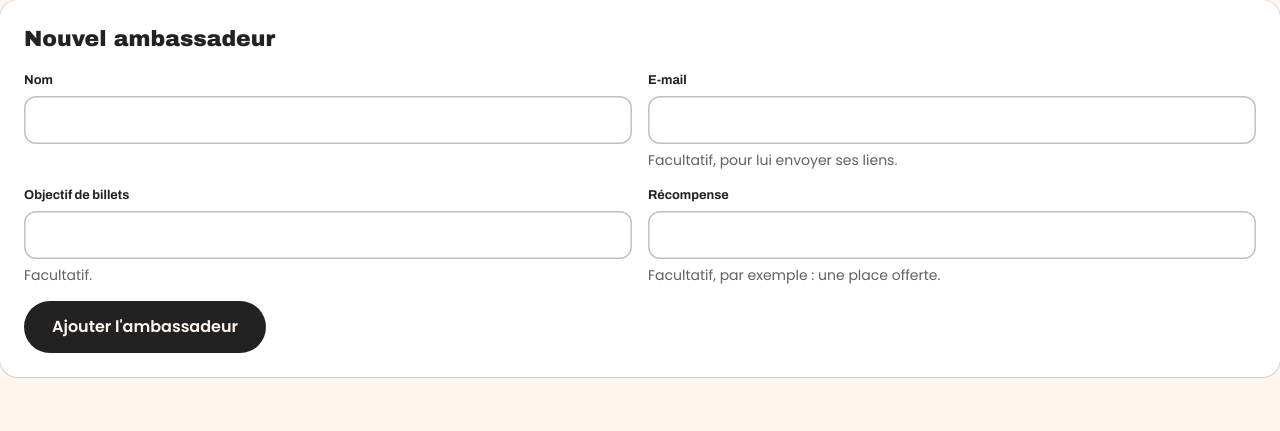
Test: ajout d'un ambassadeur › nom, e-mail et objectif transmis à l'action ; confirmation affichée
The image size is (1280, 431).
Type "Léa Ambassadrice" into the field with id "amb-name". click: (328, 120)
box: left=24, top=96, right=632, bottom=144
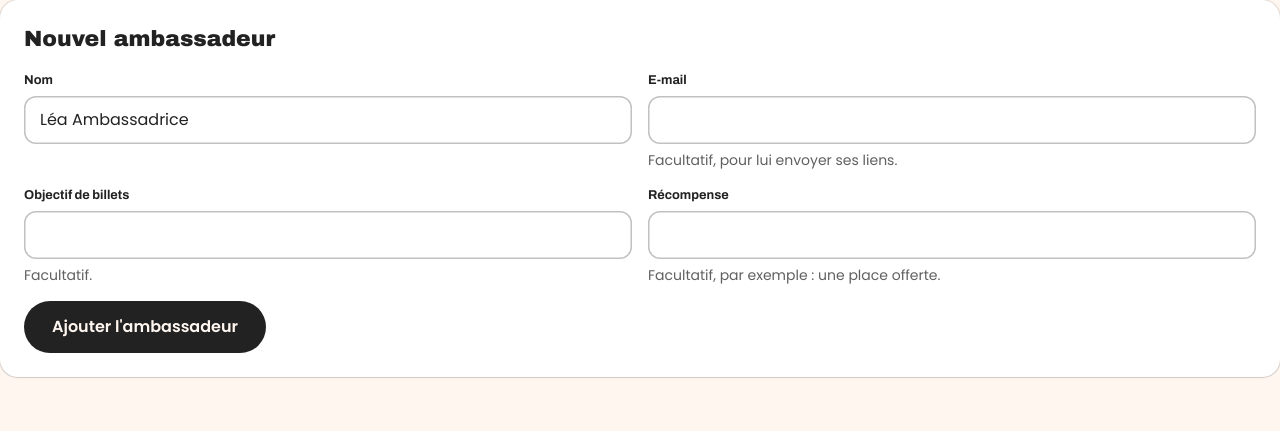
Type "lea@exemple.be" into the field with id "amb-email". click: (952, 120)
box: left=648, top=96, right=1256, bottom=144
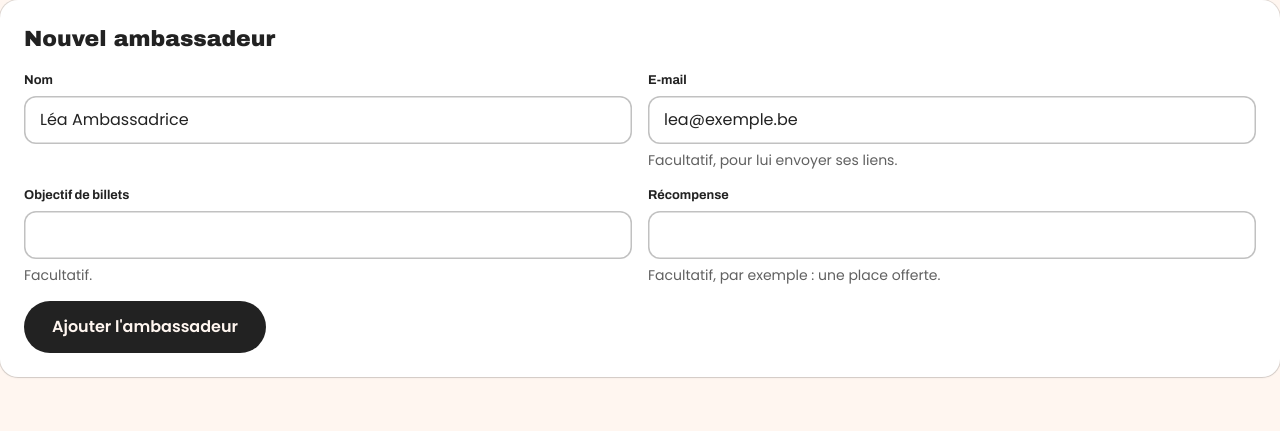
Type "20" into the field with id "amb-goal". click: (328, 235)
box: left=24, top=211, right=632, bottom=259
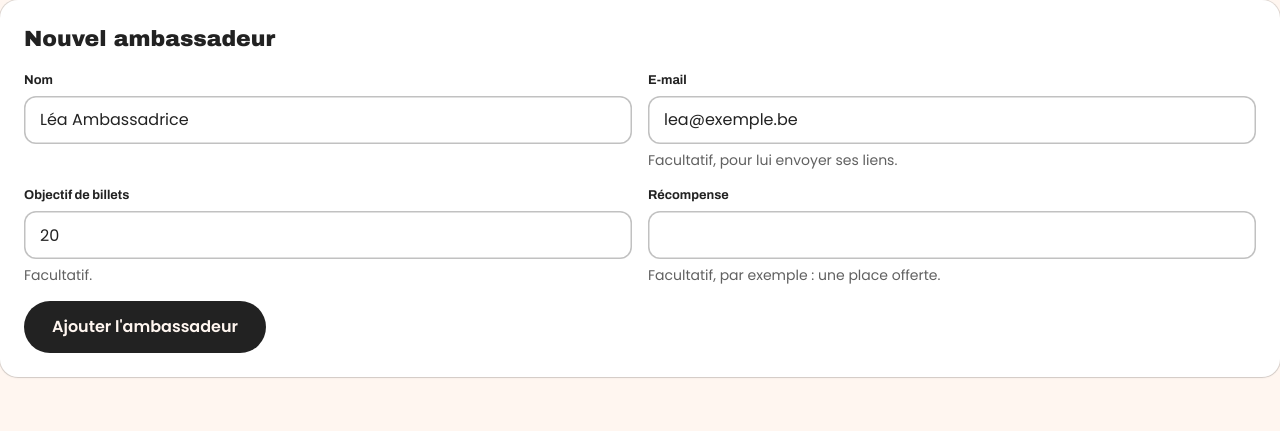
Submit the form with id "amb-name"
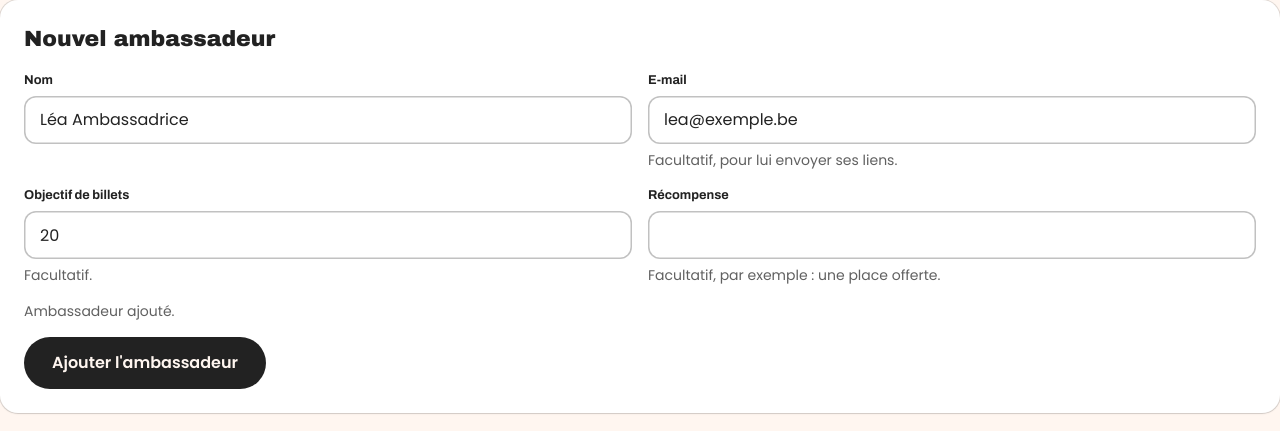
Expected: the text "Ambassadeur ajouté." is shown, left=24, top=301, right=174, bottom=321
